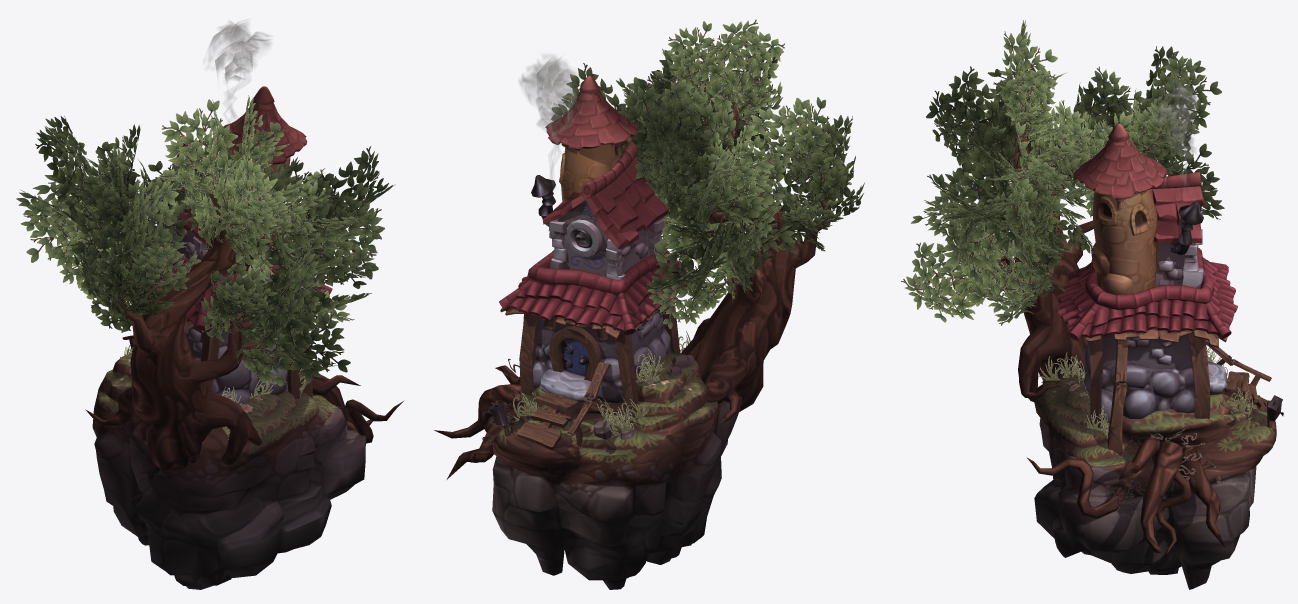
3 renders of one model, left to right at view 1: azimuth 30°, elevation 25°; view 2: azimuth 150°, elevation 25°; view 3: azimuth 270°, elevation 25°, orthographic. The views are drawn at different scales.
Parts seen in each view (by area): view 1: Geode; view 2: Geode; view 3: Geode.
Boxes of the visible parts, bbox=[...] form: Geode: bbox=[16, 20, 404, 589]; Geode: bbox=[434, 19, 864, 589]; Geode: bbox=[901, 20, 1283, 589].
Size of the model in its own units: 23.33 by 33.75 by 22.59.
Materials: 4 (4 with a texture image).
